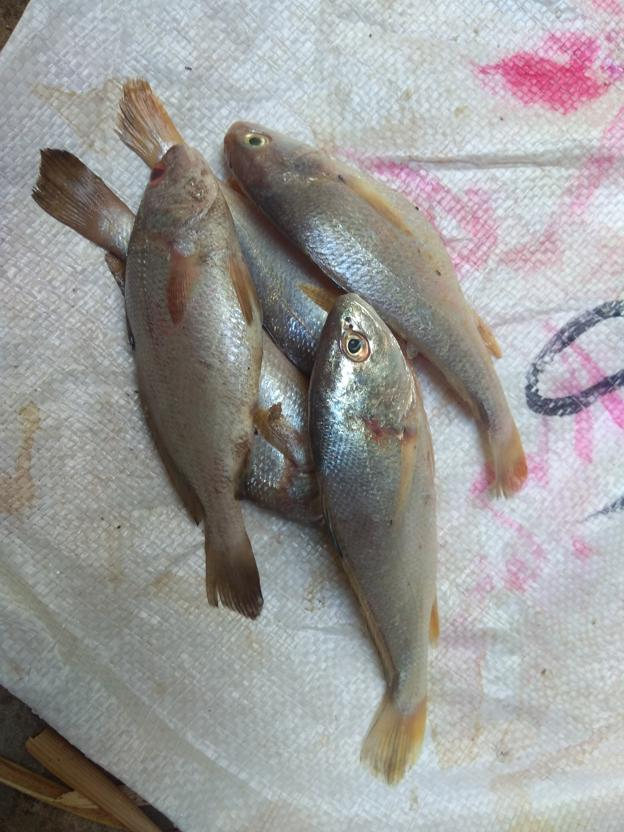Fish head: (310, 293, 420, 435), (136, 144, 230, 248), (227, 120, 321, 213)
Fish tail: (29, 146, 130, 246), (363, 688, 430, 791), (112, 74, 182, 167), (202, 532, 264, 620), (483, 420, 531, 501)
